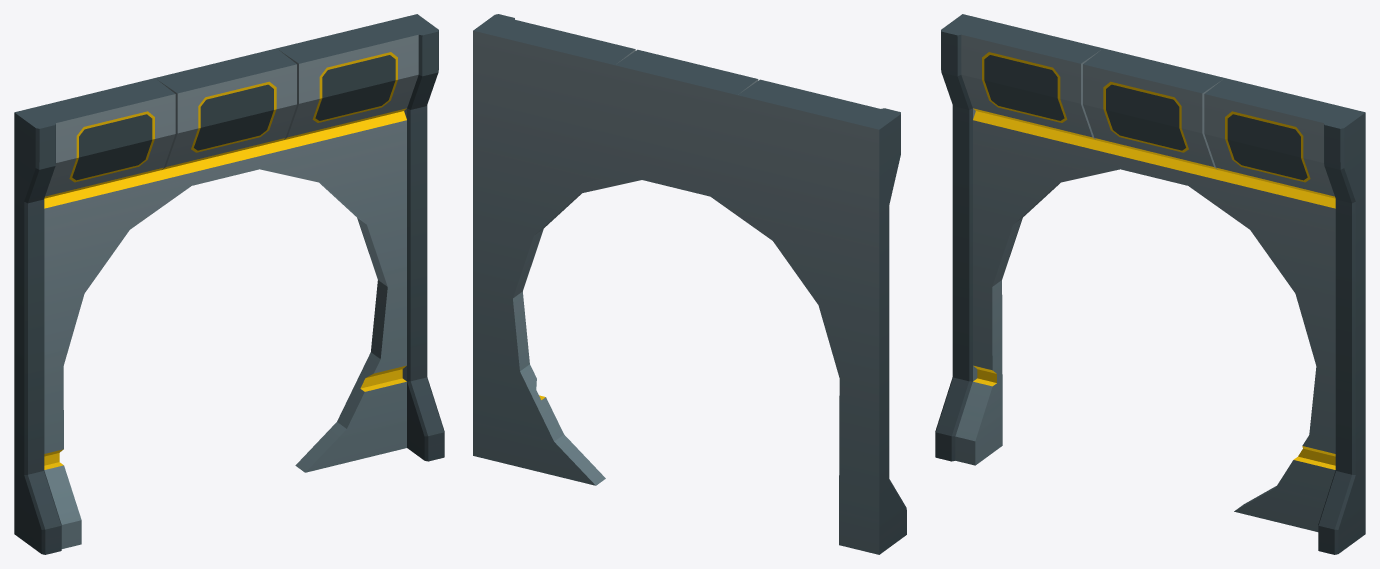
File: Wall_type_C_062.fbx
The picture shows the model from 3 angles, left to right: view 1: azimuth 30°, elevation 25°; view 2: azimuth 150°, elevation 25°; view 3: azimuth 330°, elevation 25°; orthographic projection.
Parts seen in each view (by area): view 1: Wall_type_C_062; view 2: Wall_type_C_062; view 3: Wall_type_C_062.
Part boxes in pixels (x1=…): Wall_type_C_062: x1=14, y1=14, x2=444, y2=554; Wall_type_C_062: x1=473, y1=14, x2=906, y2=554; Wall_type_C_062: x1=935, y1=14, x2=1365, y2=554.
Size of the model in its own units: 400 by 50 by 400.
